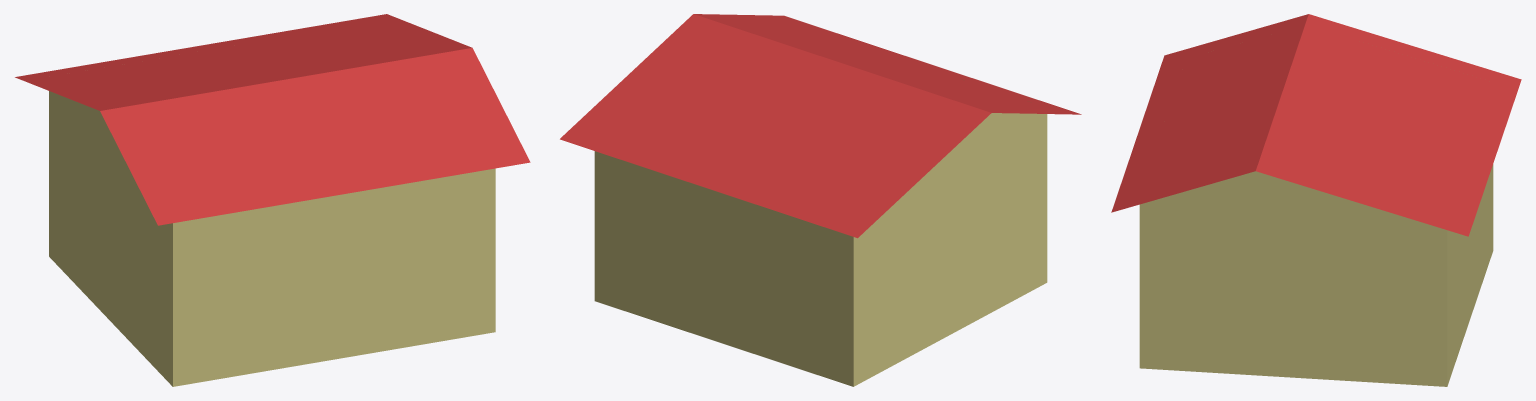
3 views of the same model, side by side, from view 1: azimuth 30°, elevation 25°; view 2: azimuth 150°, elevation 25°; view 3: azimuth 270°, elevation 25° (orthographic). The views are drawn at different scales.
Size of the model in its own units: 16.9 by 16.39 by 9.47.
